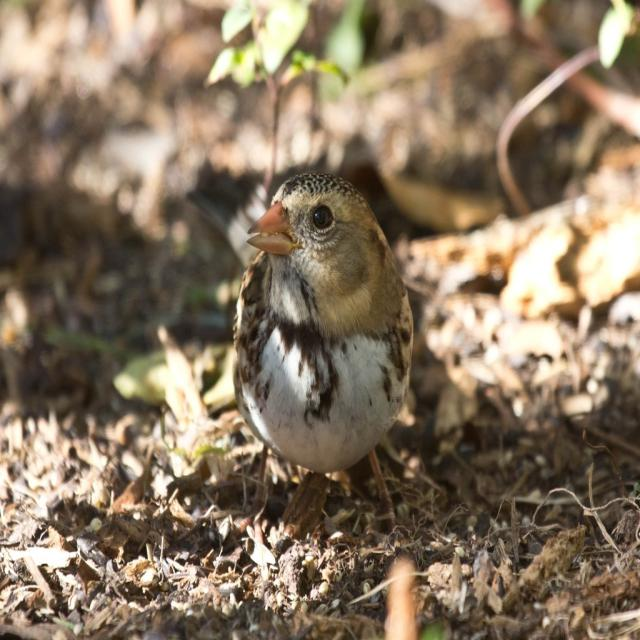bird: (229, 178, 427, 498)
